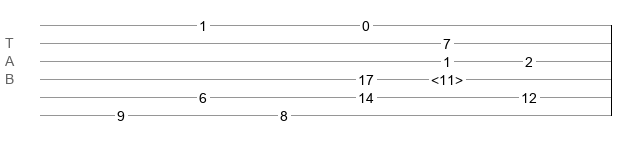0: (362, 18, 370, 28)
1: (199, 18, 207, 28), (443, 54, 451, 64)
12: (521, 90, 537, 100)
14: (358, 90, 374, 100)
17: (358, 72, 374, 82)
2: (525, 54, 533, 64)
6: (199, 90, 207, 100)
7: (443, 36, 451, 46)
8: (280, 108, 288, 118)
9: (117, 108, 125, 118)
harmonic: (431, 72, 463, 82)
